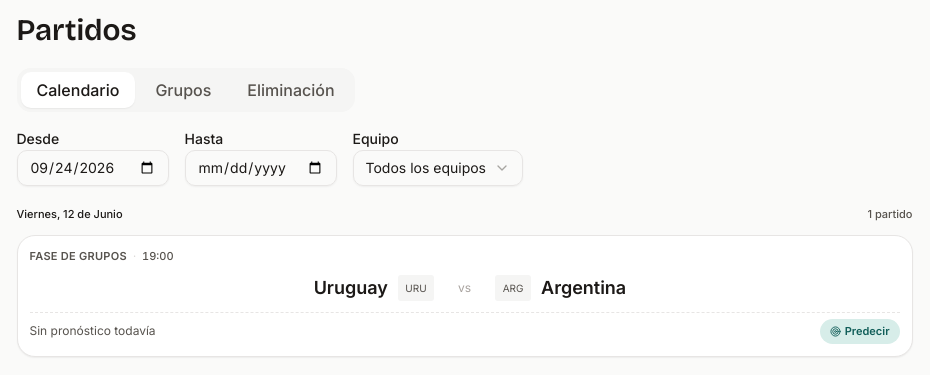
Test: FixturePage › shows the bracket empty-state on Eliminación when the bracket is empty
Click the tab "Eliminación".
click(291, 90)  # box [231,72,350,108]
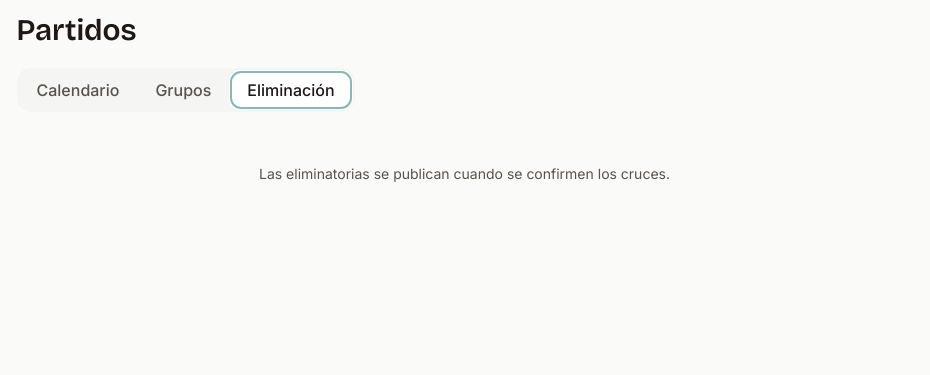
Expected: the text "Las eliminatorias se publican cuando se confirmen" is shown, [259,165,670,182]
